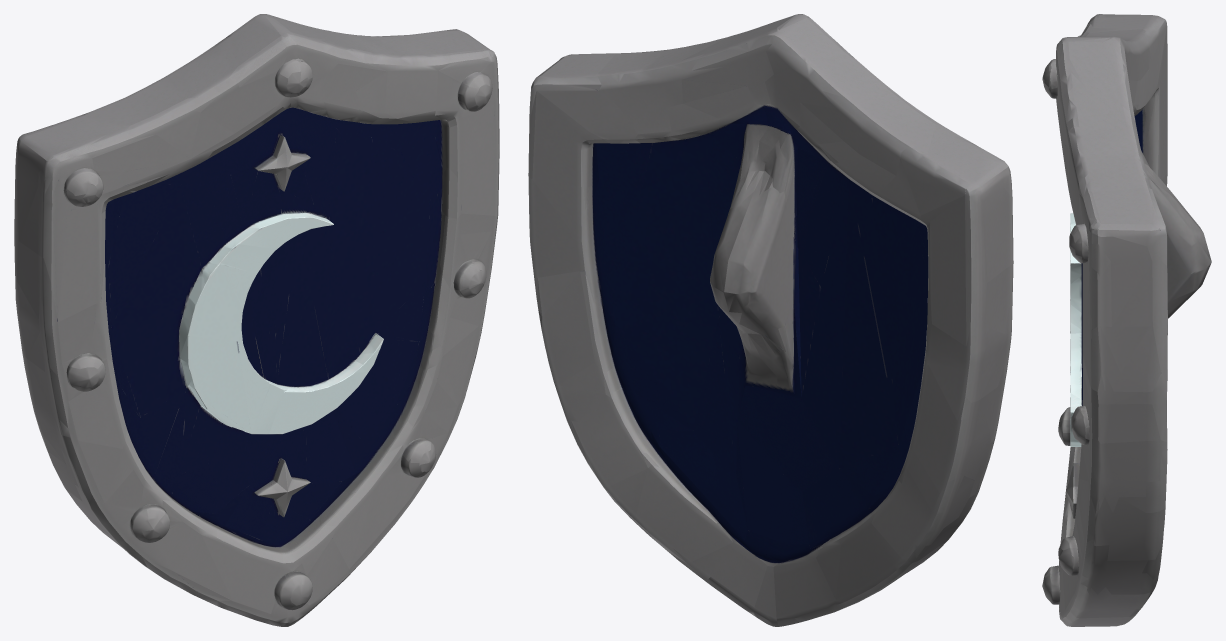
The model's file is moon_shield.glb.
The picture shows the model from 3 angles, left to right: view 1: azimuth 30°, elevation 25°; view 2: azimuth 150°, elevation 25°; view 3: azimuth 270°, elevation 25°; orthographic projection.
Bounding box in the file's own units: 1.53 × 1.9 × 0.4982.
Materials: 1 (1 with a texture image).
